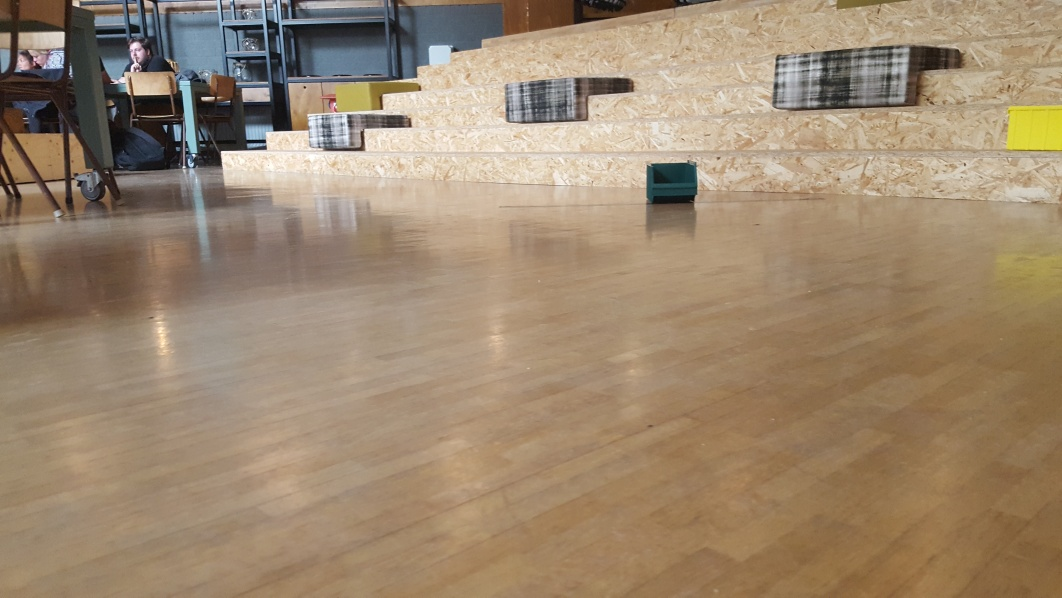tray: (642, 157, 701, 206)
